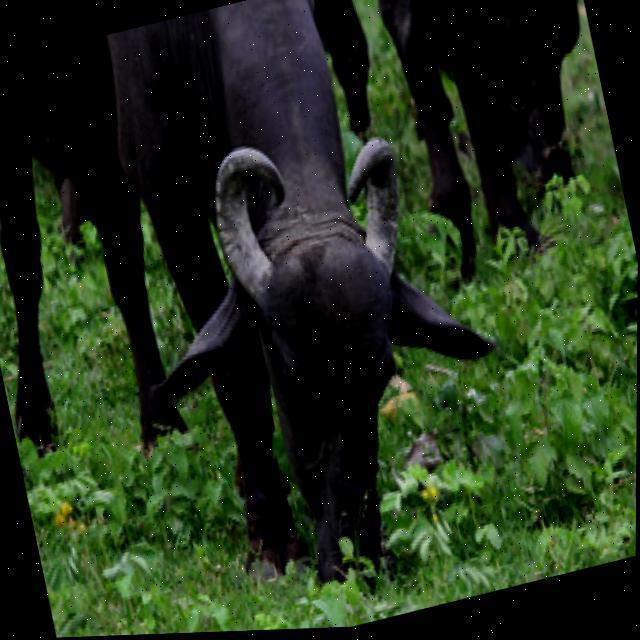Buffalo: (77, 0, 549, 637)
